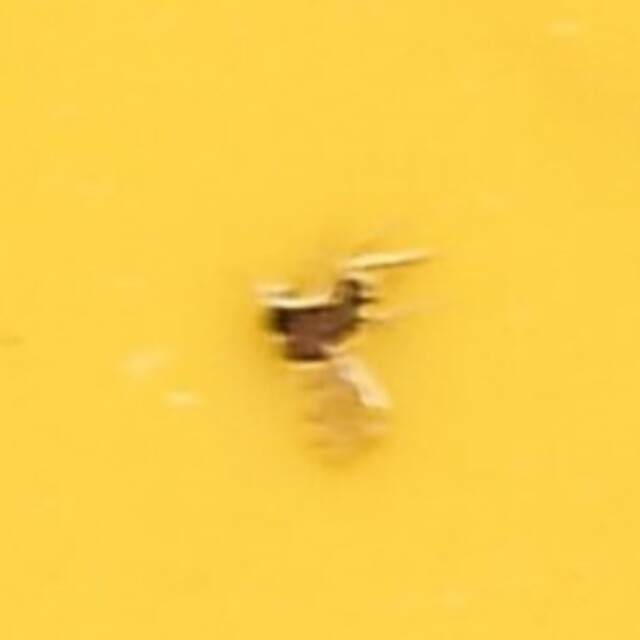Brachycera: (259, 263, 381, 377)
